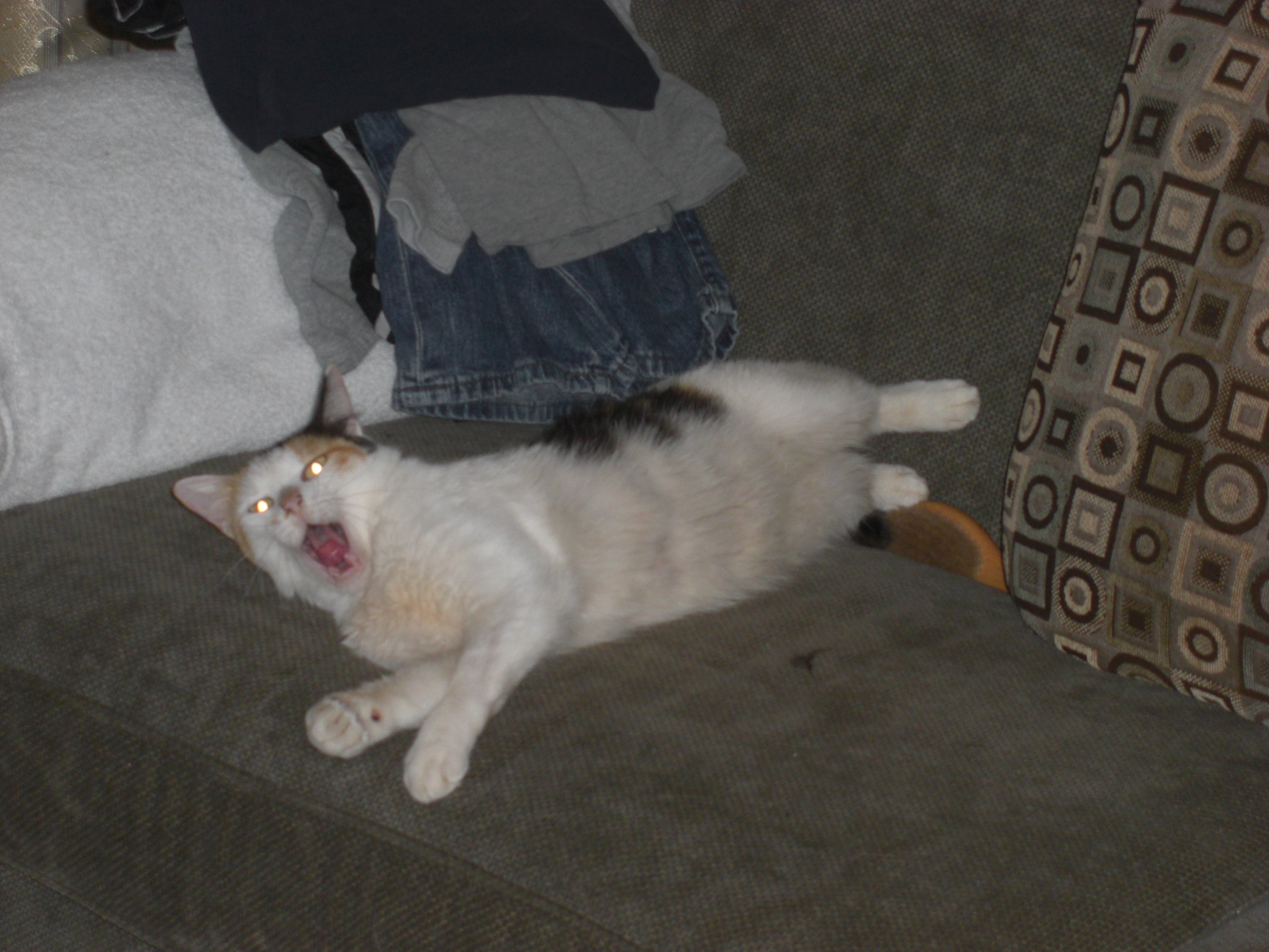cat: (168, 363, 976, 812)
